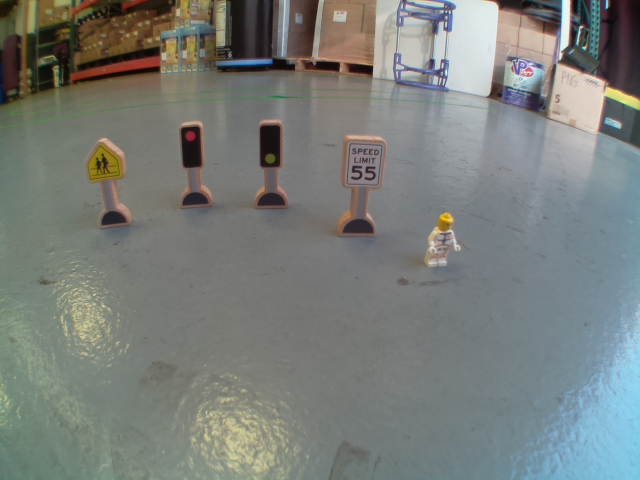Green Traffic Light: (253, 118, 287, 171)
Red Traffic Light: (175, 120, 206, 169)
Speed Limit 55: (343, 138, 383, 186)
YIELD: (77, 134, 128, 183)
person: (423, 210, 468, 273)
